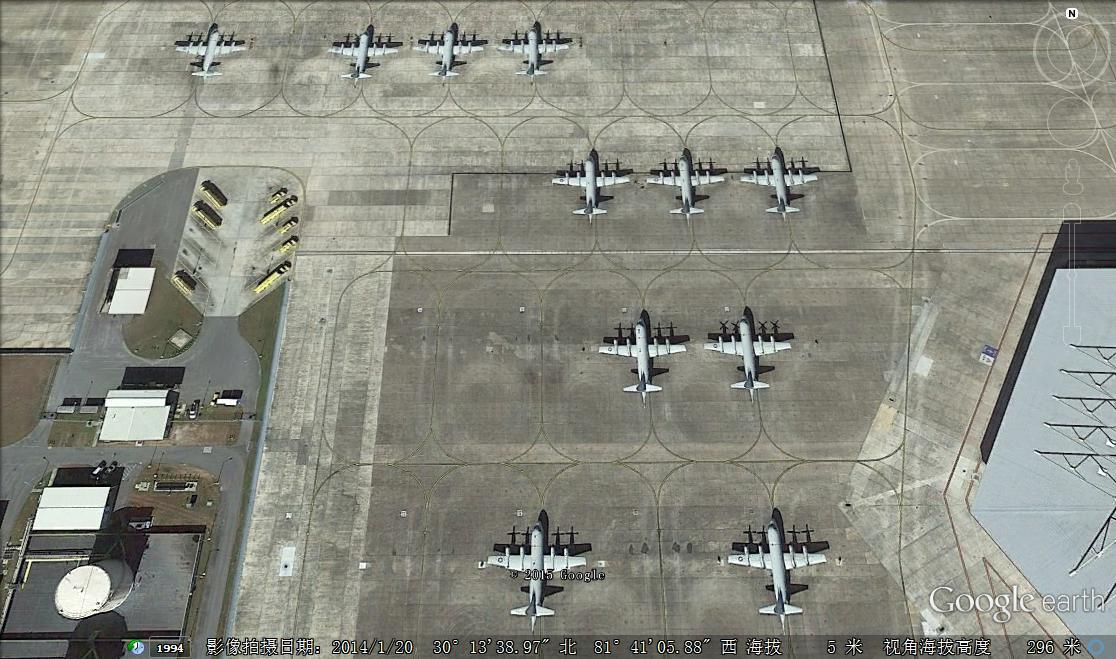P-3C: (718, 513, 831, 621), (483, 519, 593, 623), (594, 312, 689, 397), (702, 314, 797, 396), (735, 153, 828, 219), (644, 154, 732, 221), (546, 154, 636, 219), (494, 22, 576, 80), (321, 27, 400, 81), (414, 24, 490, 80), (174, 26, 248, 80)
